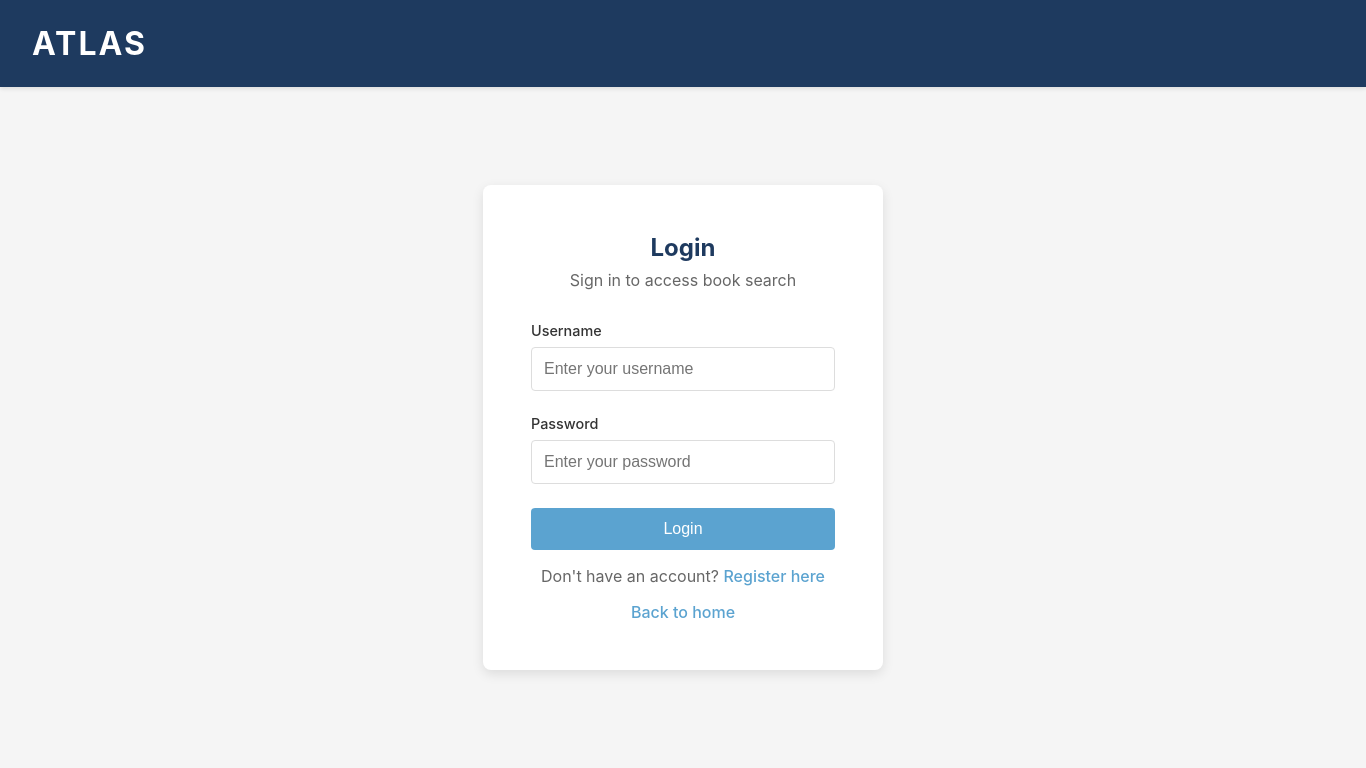
Test: LoginPage › Form Validation › should show error for empty fields
This screenshot has width=1366, height=768.
Click the button "Login" at (683, 529), box [531,508,835,550]
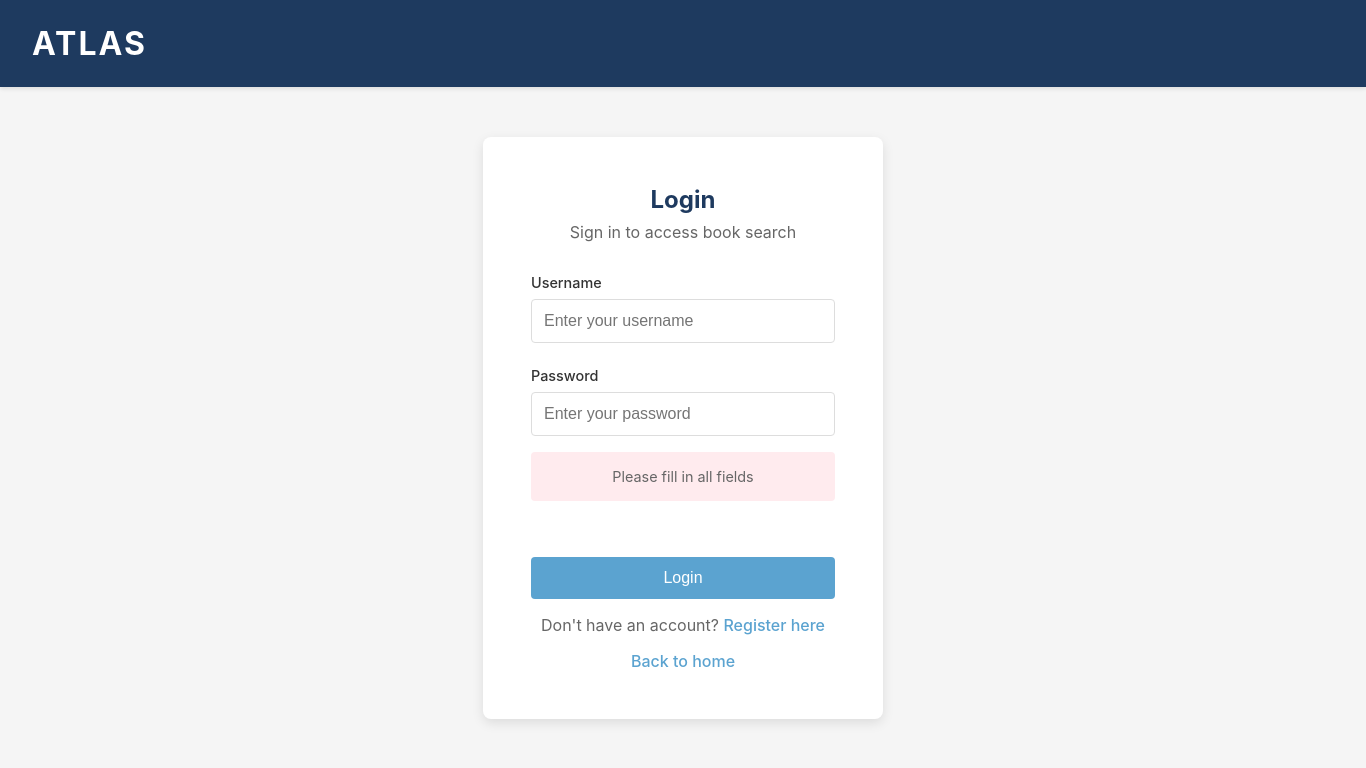
Now the text "Please fill in all fields" is shown, box [531,452,835,500]
